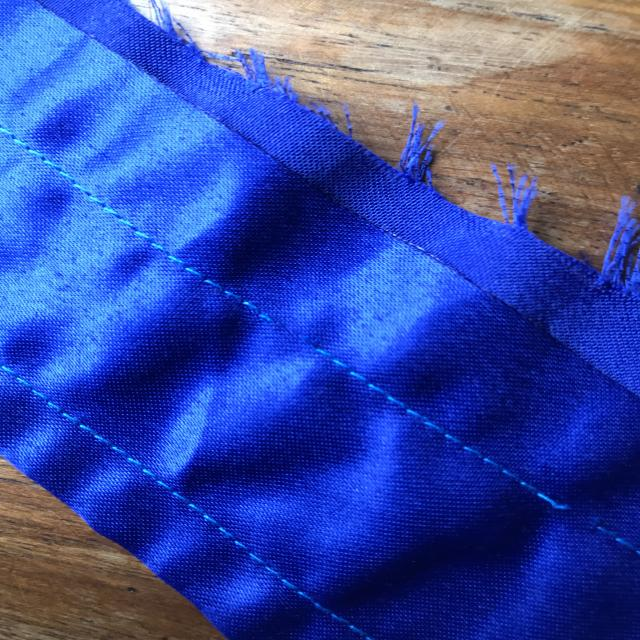broken: (214, 279, 371, 377)
